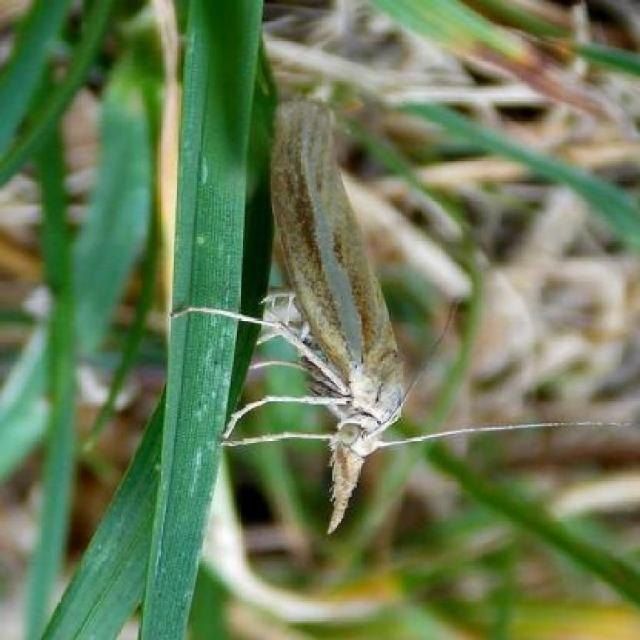stem-borer: (163, 93, 625, 542)
